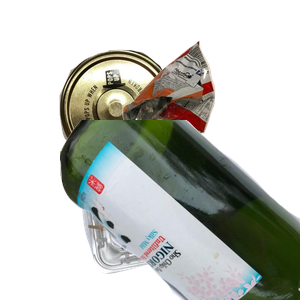glass: (60, 120, 300, 300)
metal: (57, 47, 227, 211)
plastic: (76, 151, 270, 300)
trash: (120, 38, 300, 164)
